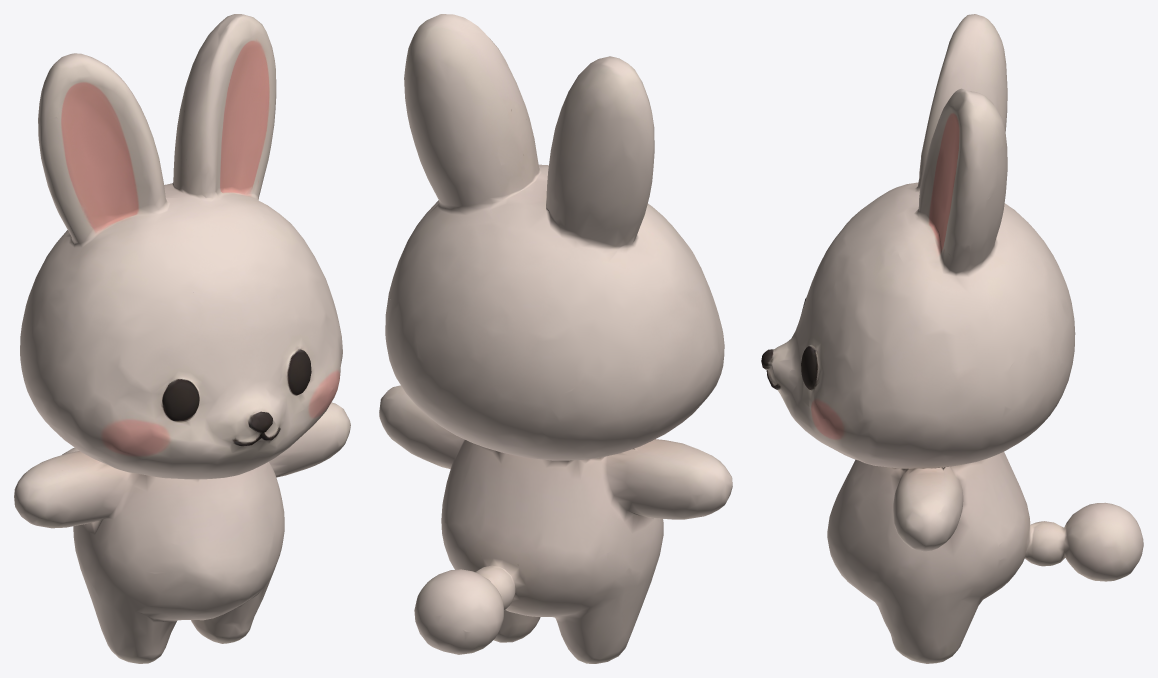
Rendered from rabbit.glb.
3 views of the same model, side by side, from view 1: azimuth 30°, elevation 25°; view 2: azimuth 150°, elevation 25°; view 3: azimuth 270°, elevation 25° (orthographic). The views are drawn at different scales.
Visible parts, largest first — view 1: tripo_node_4ba92fb5-52fe-4a67-9c44-f414ce735434; view 2: tripo_node_4ba92fb5-52fe-4a67-9c44-f414ce735434; view 3: tripo_node_4ba92fb5-52fe-4a67-9c44-f414ce735434.
Part boxes in pixels (bbox=[...]): tripo_node_4ba92fb5-52fe-4a67-9c44-f414ce735434: bbox=[14, 14, 350, 663]; tripo_node_4ba92fb5-52fe-4a67-9c44-f414ce735434: bbox=[379, 14, 732, 663]; tripo_node_4ba92fb5-52fe-4a67-9c44-f414ce735434: bbox=[761, 14, 1143, 663].
Size of the model in its own units: 0.5769 by 1 by 0.5904.
1 material, 1 textured.
